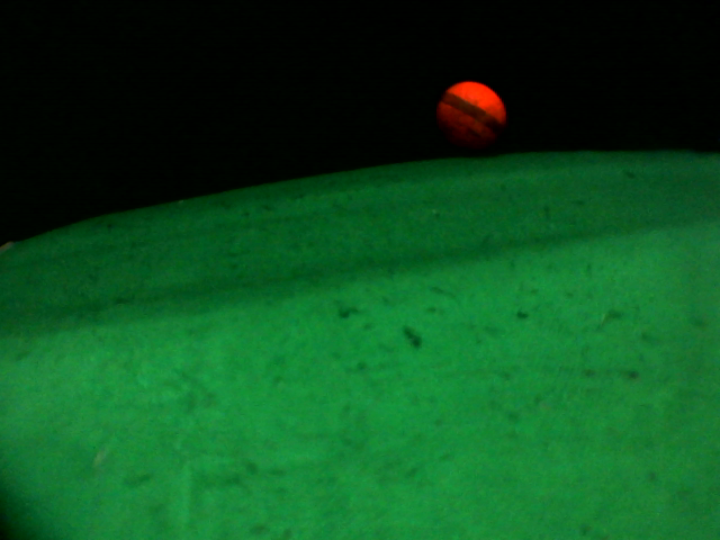bola: (428, 77, 510, 160)
